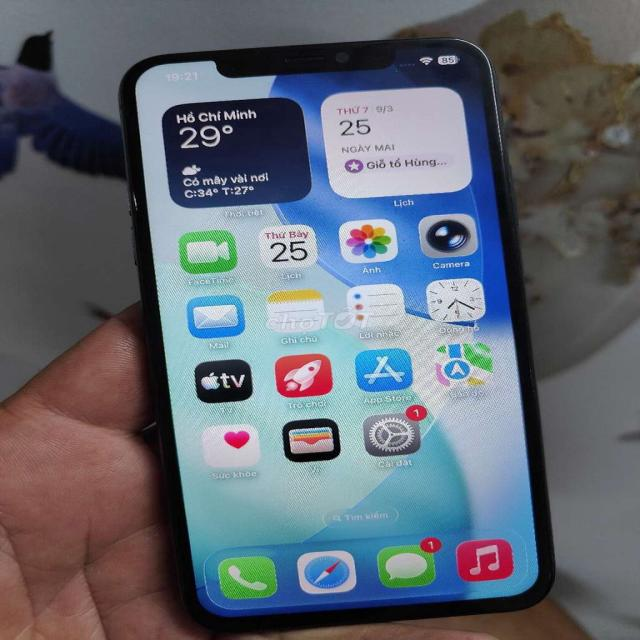gen_11: (106, 34, 566, 629)
